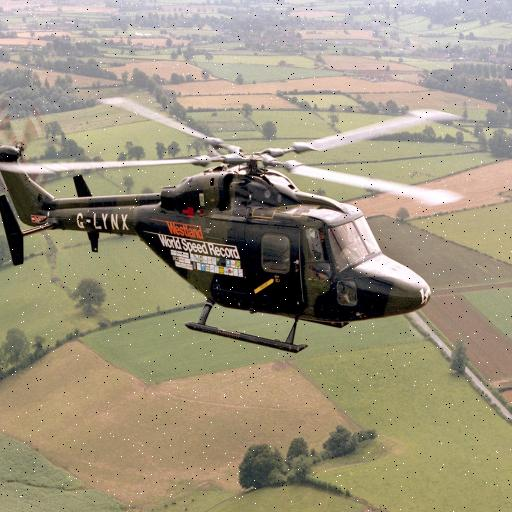helicopter: (1, 96, 468, 354)
